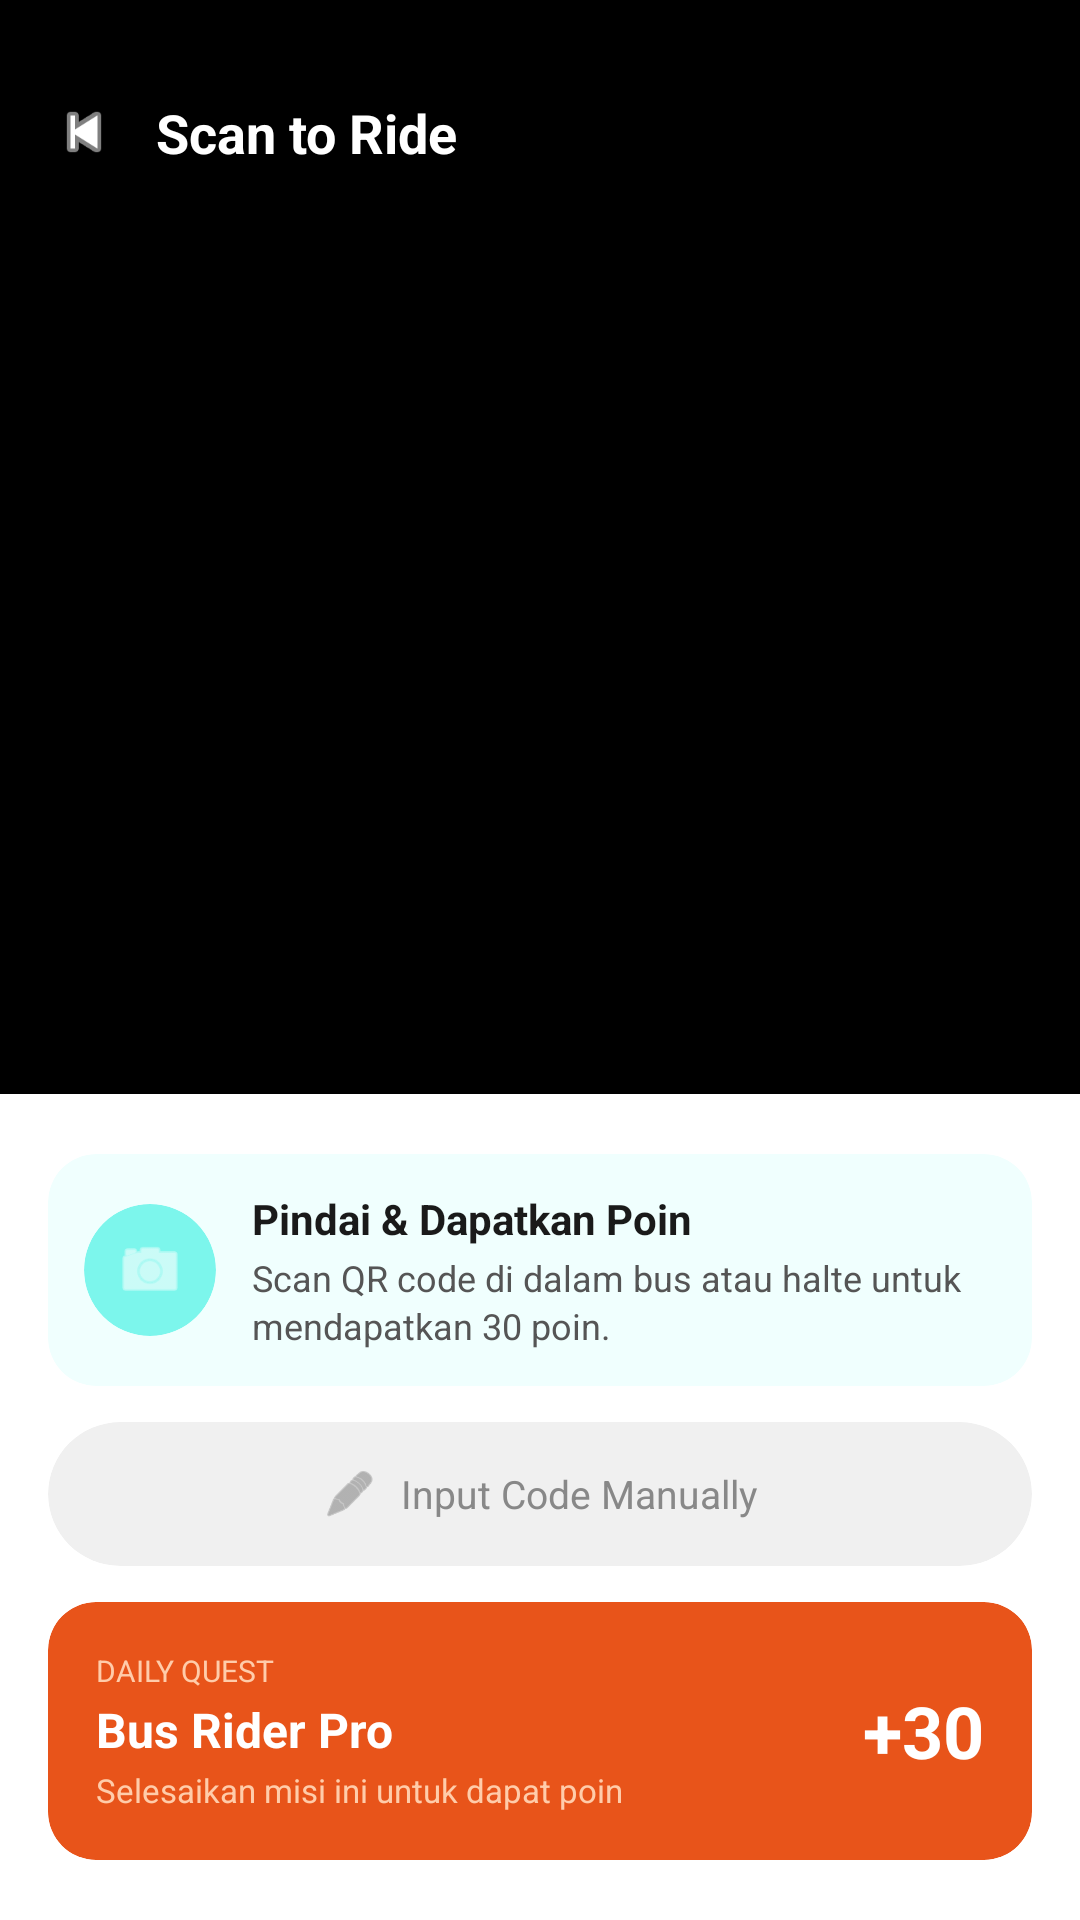

Where icons sit on this 1080px×1920px app screen, as (x1, y1, x2, y2):
camera: (122, 1247, 178, 1291)
edit: (327, 1471, 372, 1516)
previous: (67, 112, 101, 152)
